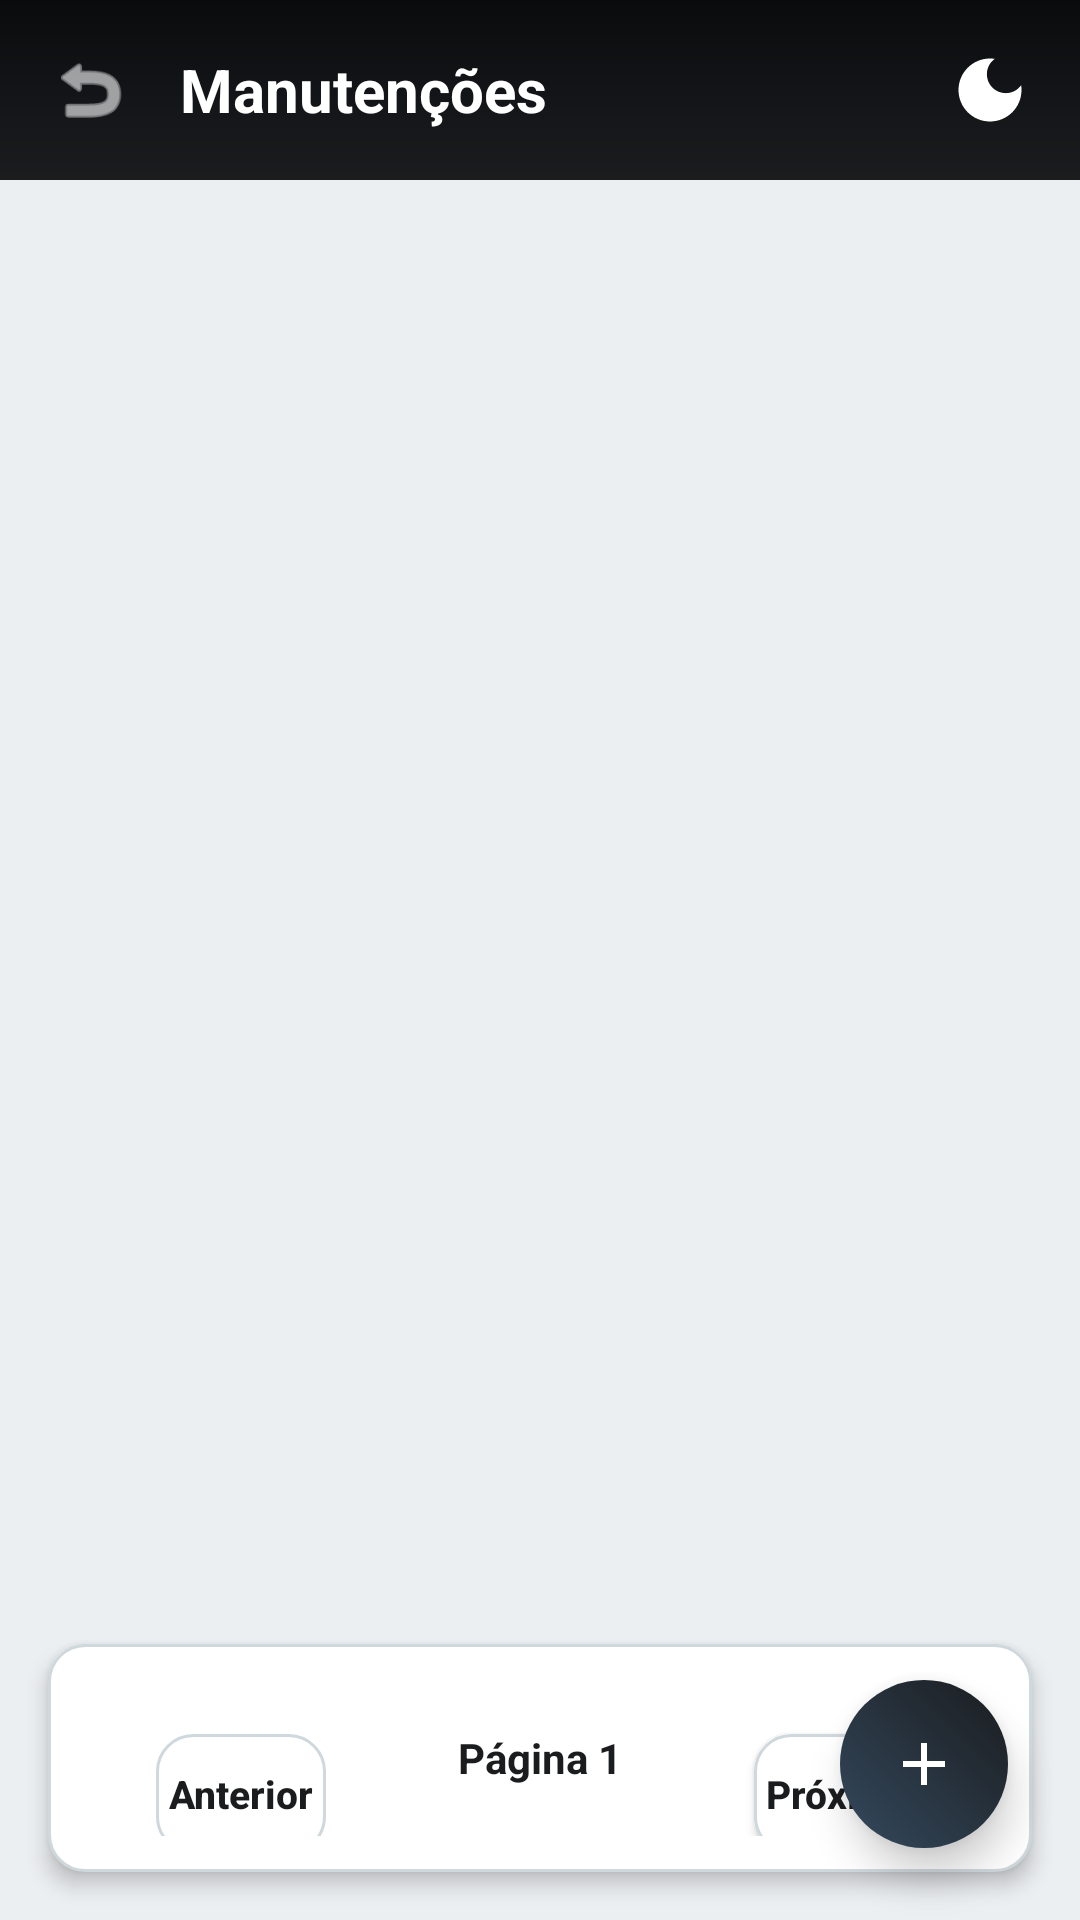

Screen size 1080 × 1920. Icon name, then its center in pixels as point (x, y):
add: point (924, 1764)
revert: point (91, 90)
